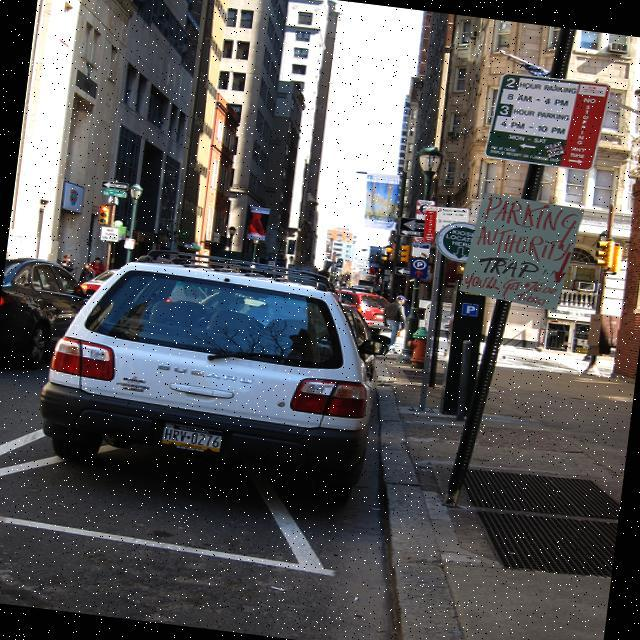fire_hydrant: (403, 325, 428, 368)
